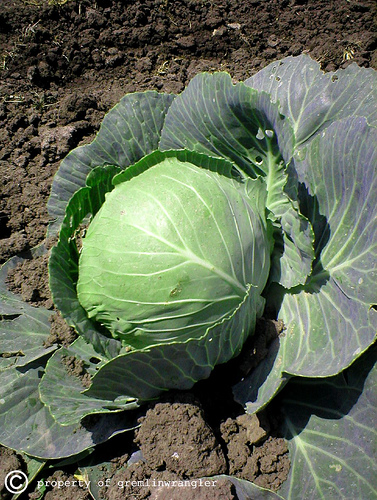cabbage: (36, 47, 375, 432)
